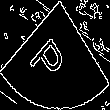P_NE: (33, 25, 77, 85)
